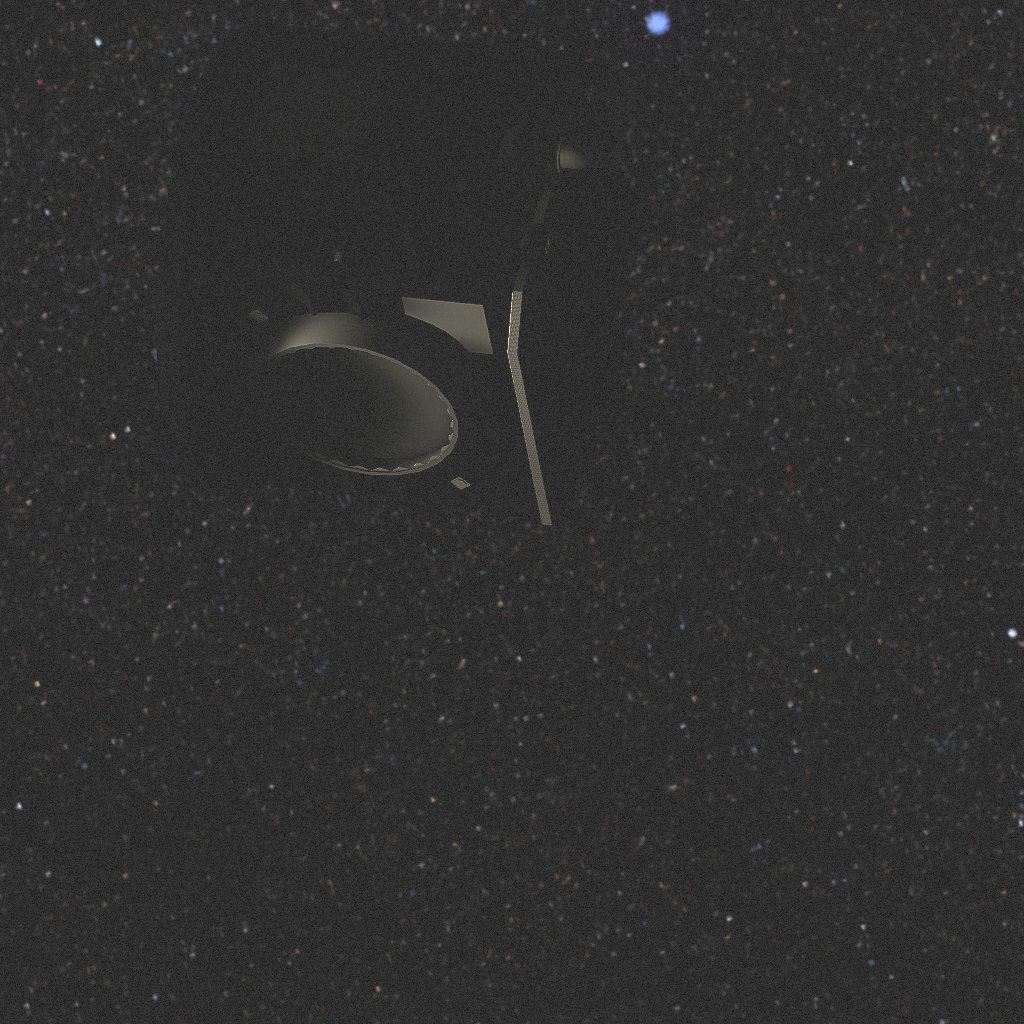proba_3_ocs: (158, 63, 597, 534)
